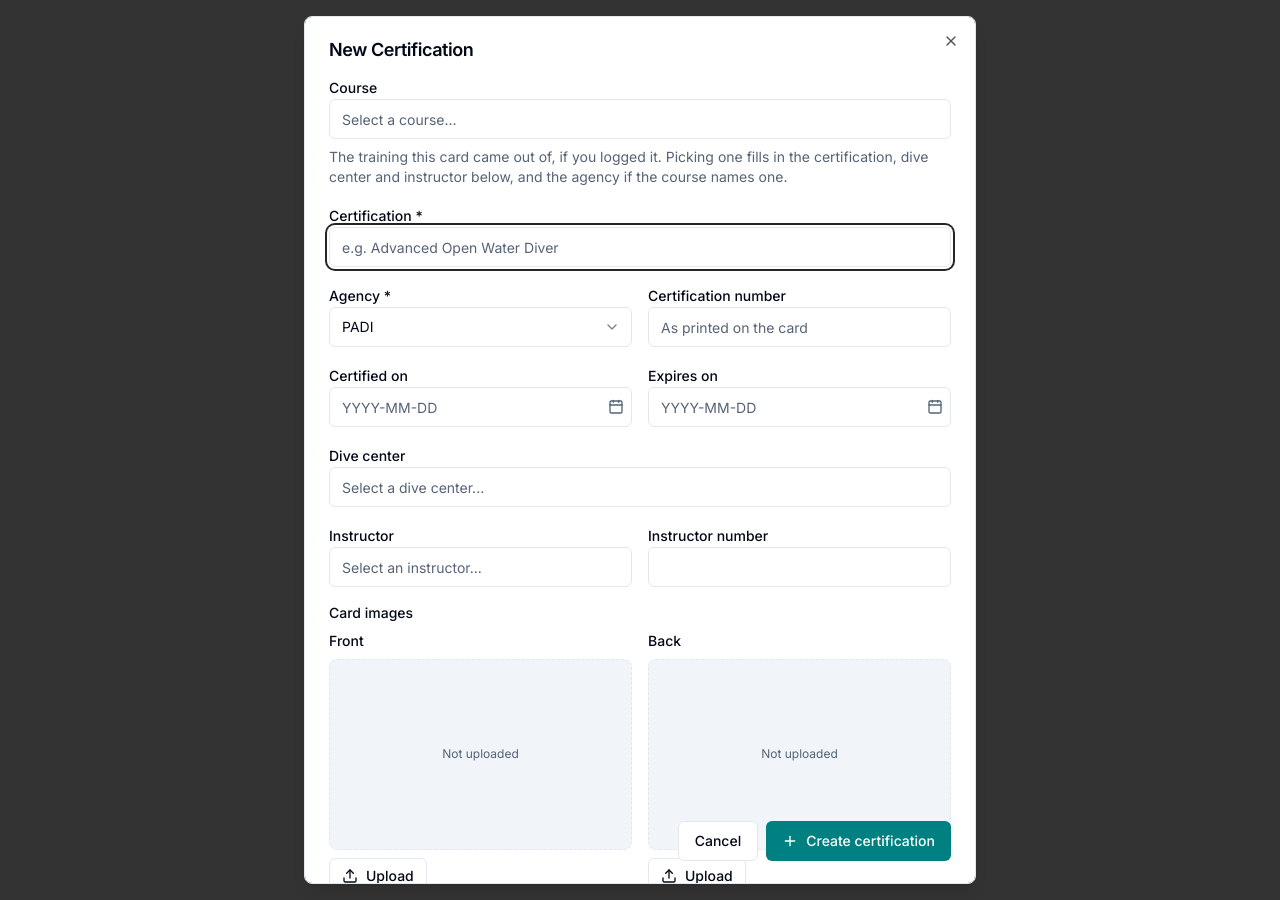
Scenario: picking a course fills the card's own fields in › keeps a level the diver typed off the card in their hand
Type "Advanced Nitrox" into the field labelled "Certification *" at (640, 247), box 329,227 -> 951,267
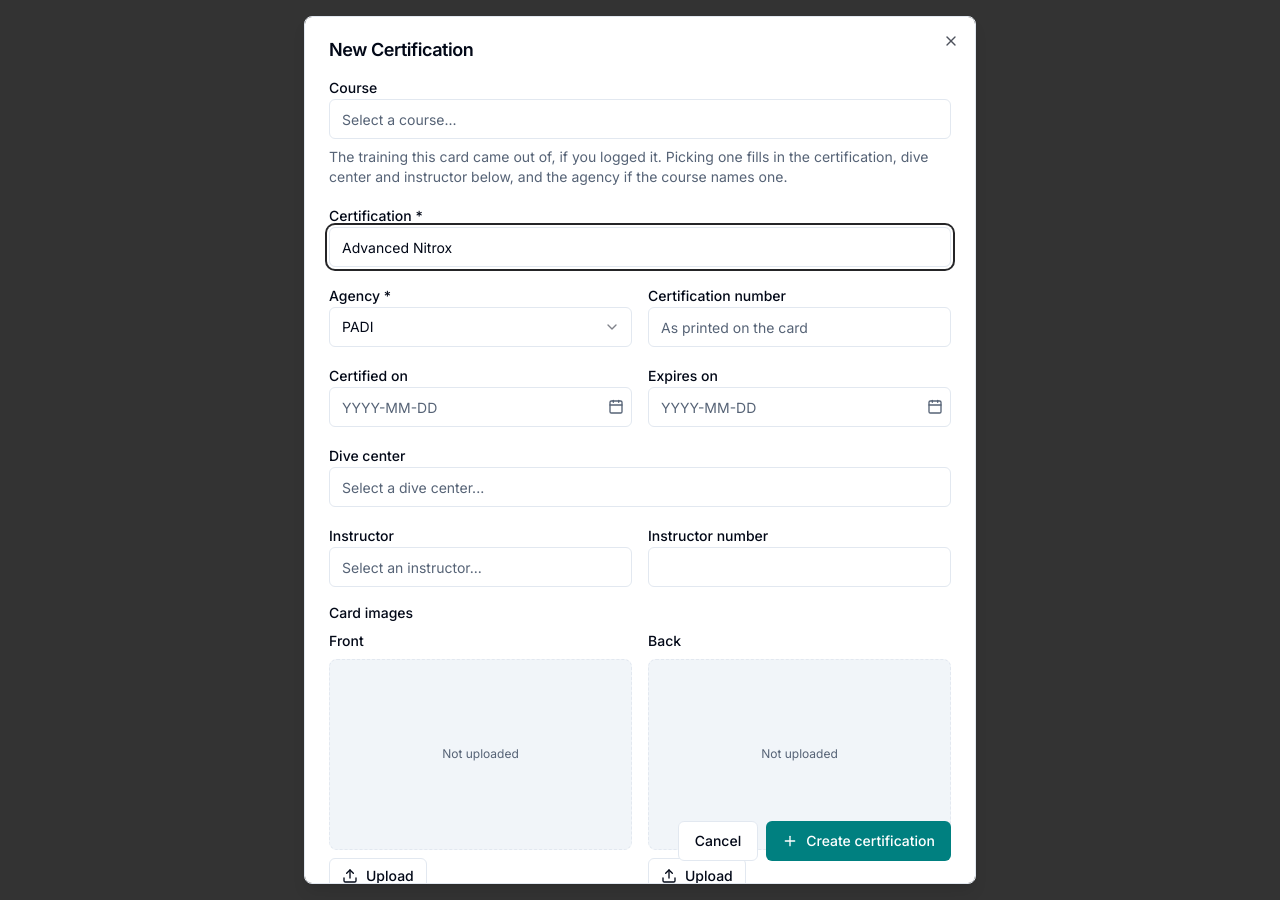
Click the dropdown labelled "Course" at (640, 119), box 329,99 -> 951,139
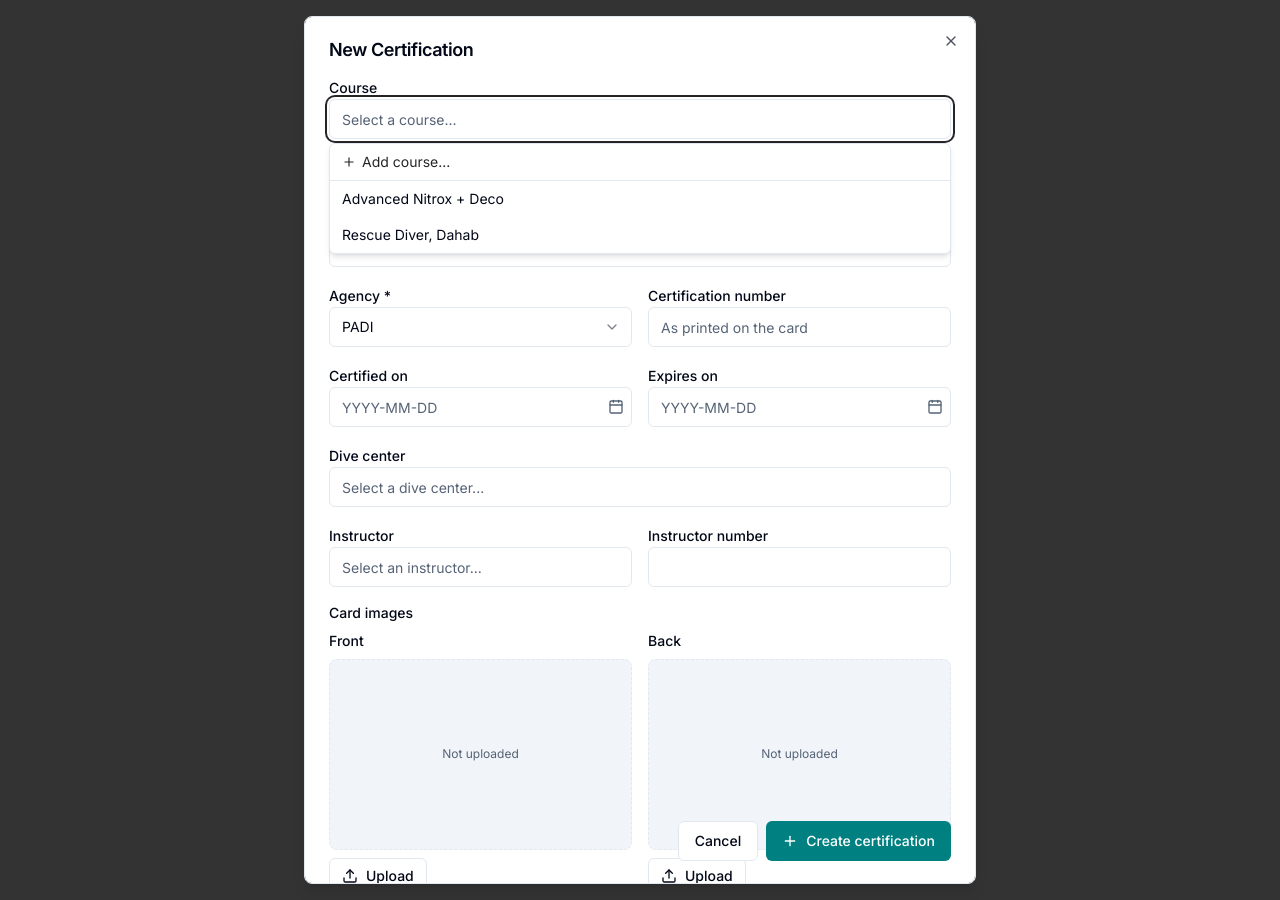
Click the option "Advanced Nitrox + Deco" at (423, 198), box 330,181 -> 950,217
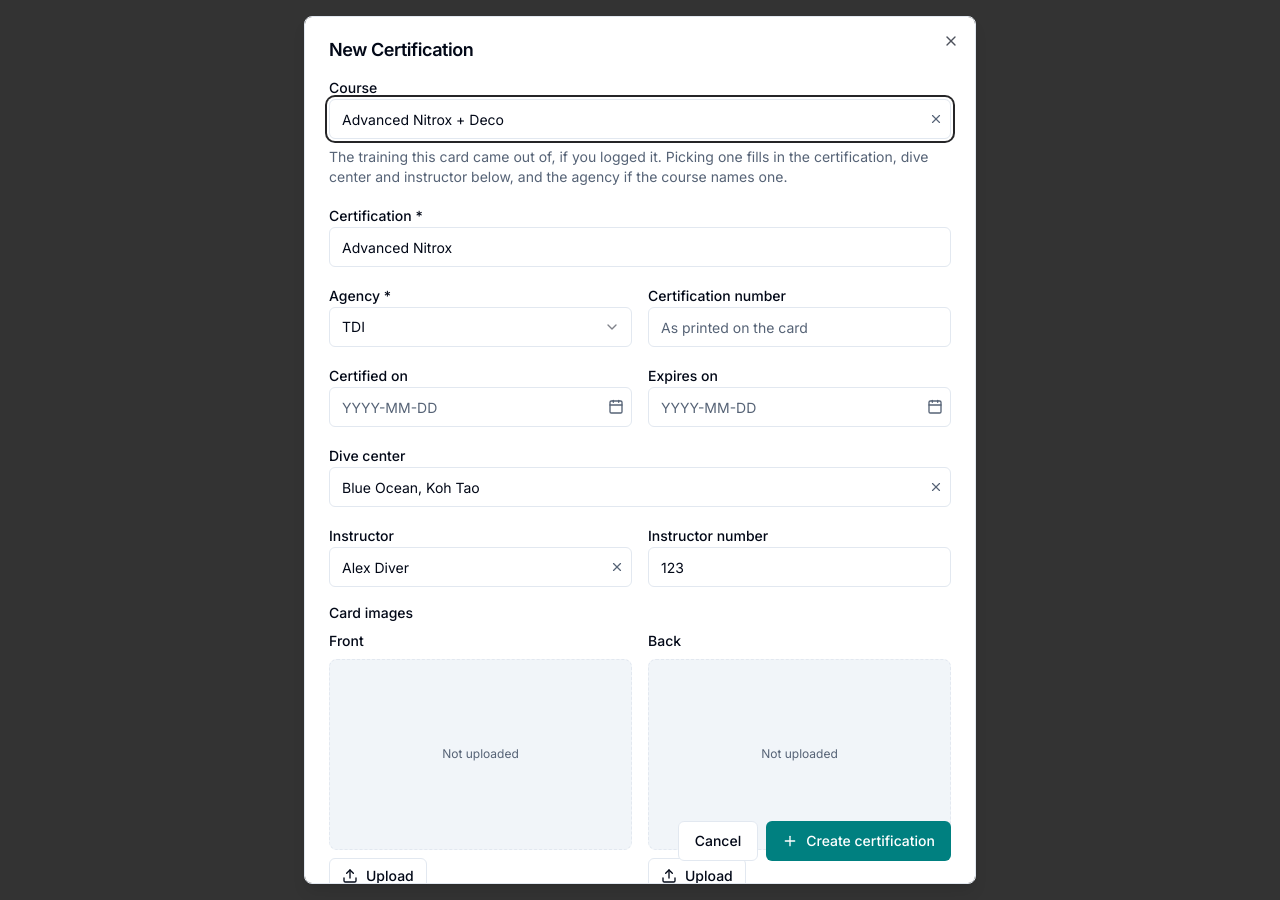
Expected: the dropdown labelled "Dive center" holds "Blue Ocean, Koh Tao", 329,467 -> 951,507
